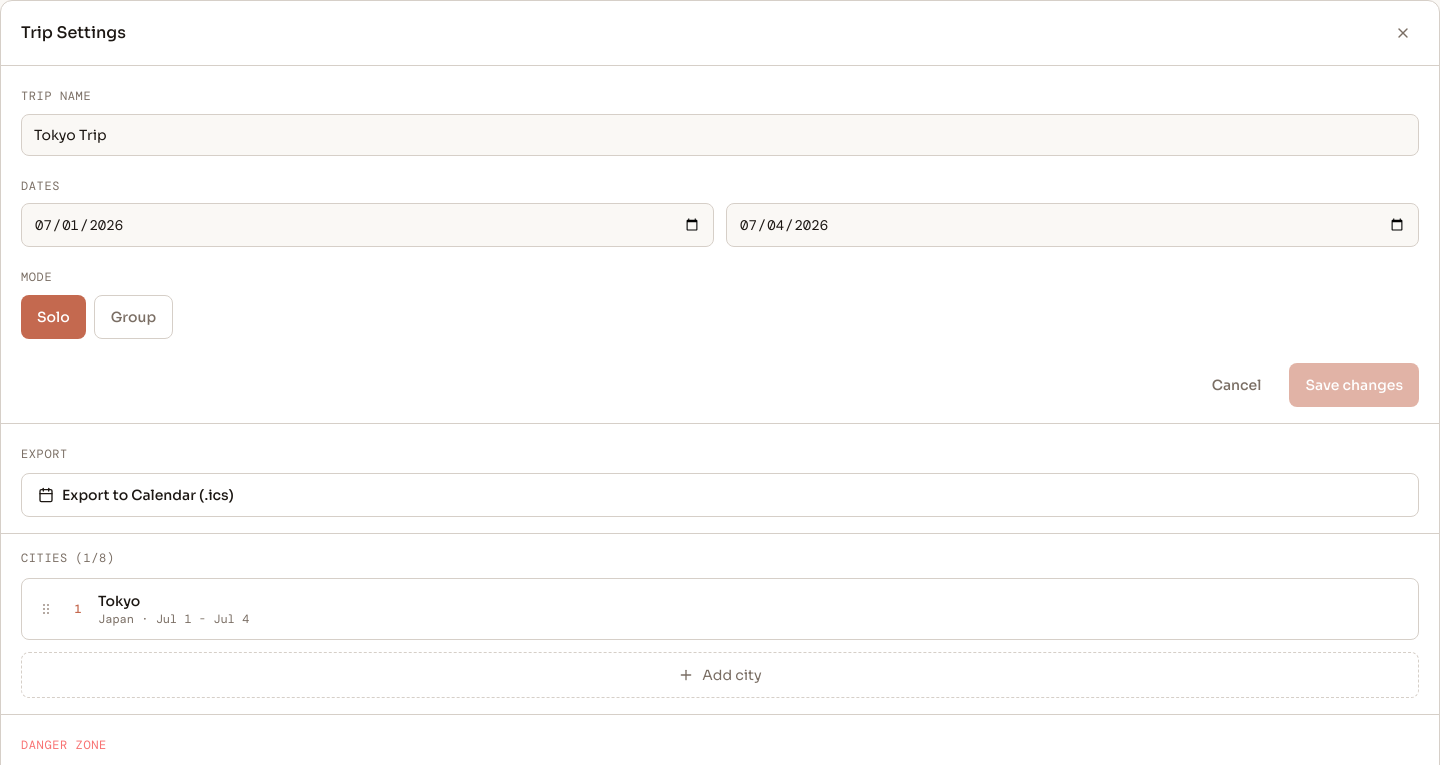
Test case: TripSettings — date validation errors › shows error when date range exceeds 14 nights and save is clicked
This screenshot has width=1440, height=765.
Step 1. Type "2026-07-20" into the 2nd date field named "End date" → [1072, 225], box [726,203,1419,247]
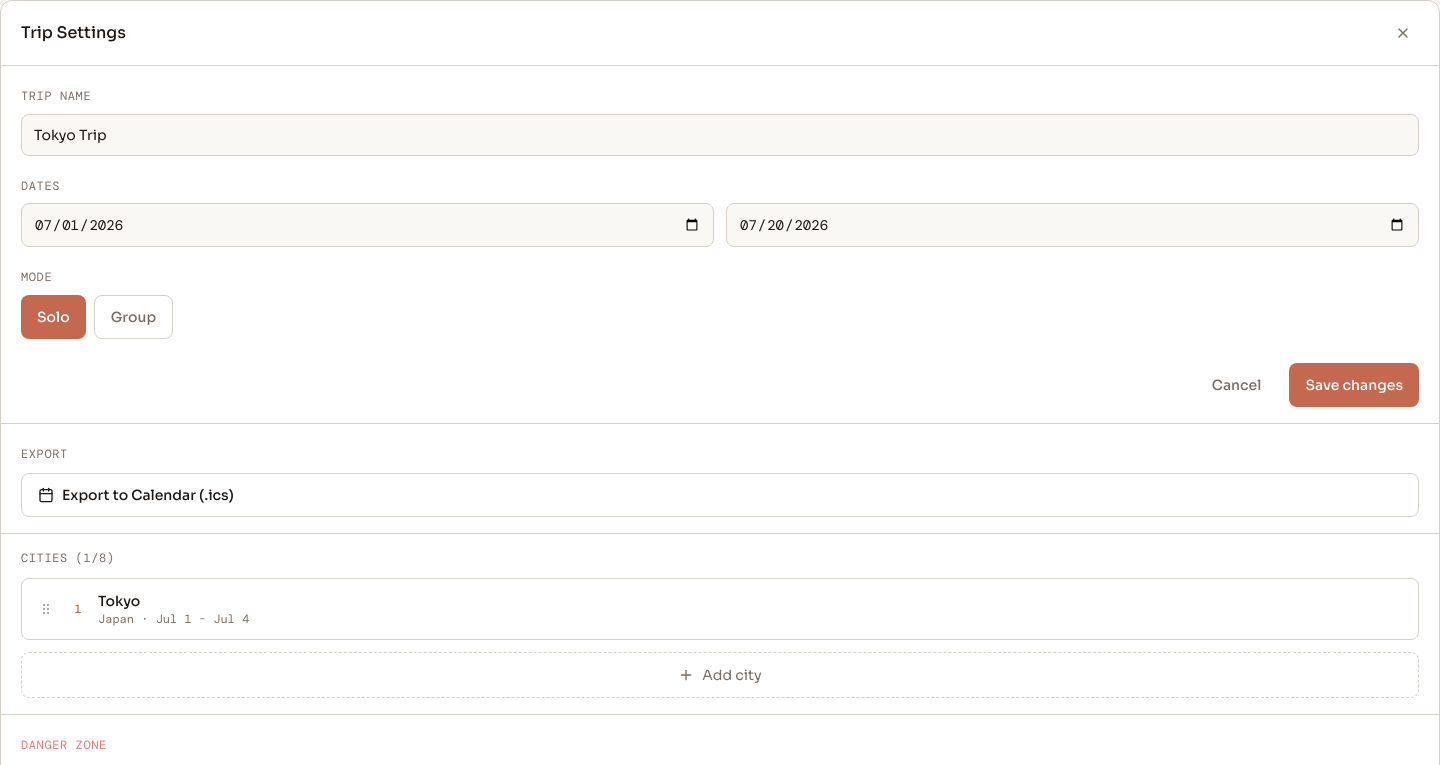
Step 2. Click the button "Save changes" → [1354, 385], box [1289,363,1419,407]
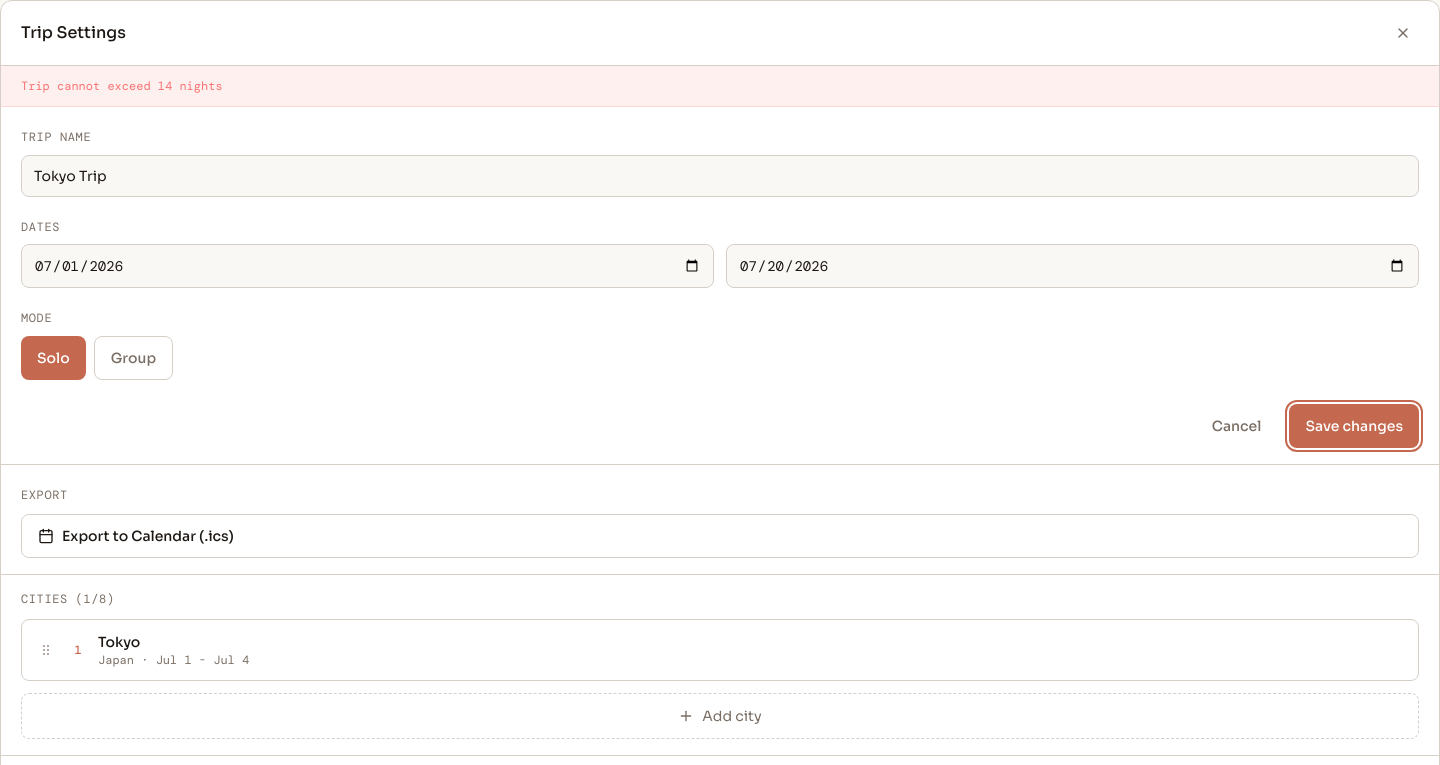
Expected: the text "Trip cannot exceed 14 nights" is shown, [21,78,223,94]
